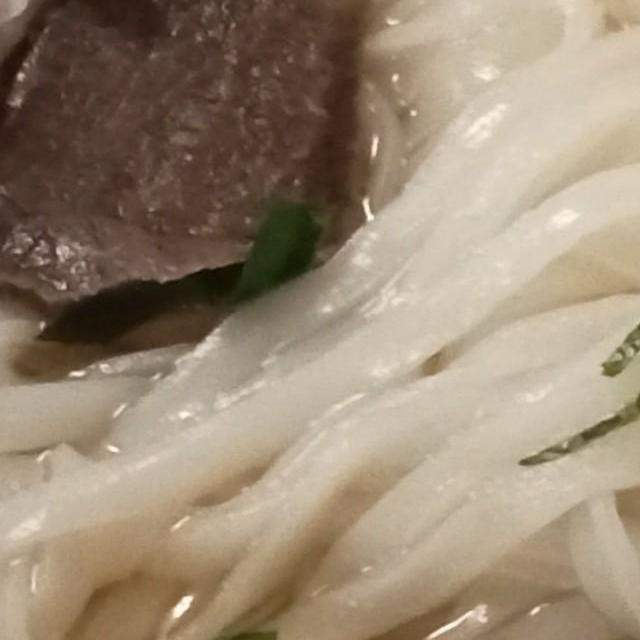banh pho: (0, 0, 640, 640)
pho bo: (0, 0, 640, 640)
thit bo: (0, 0, 383, 349)
